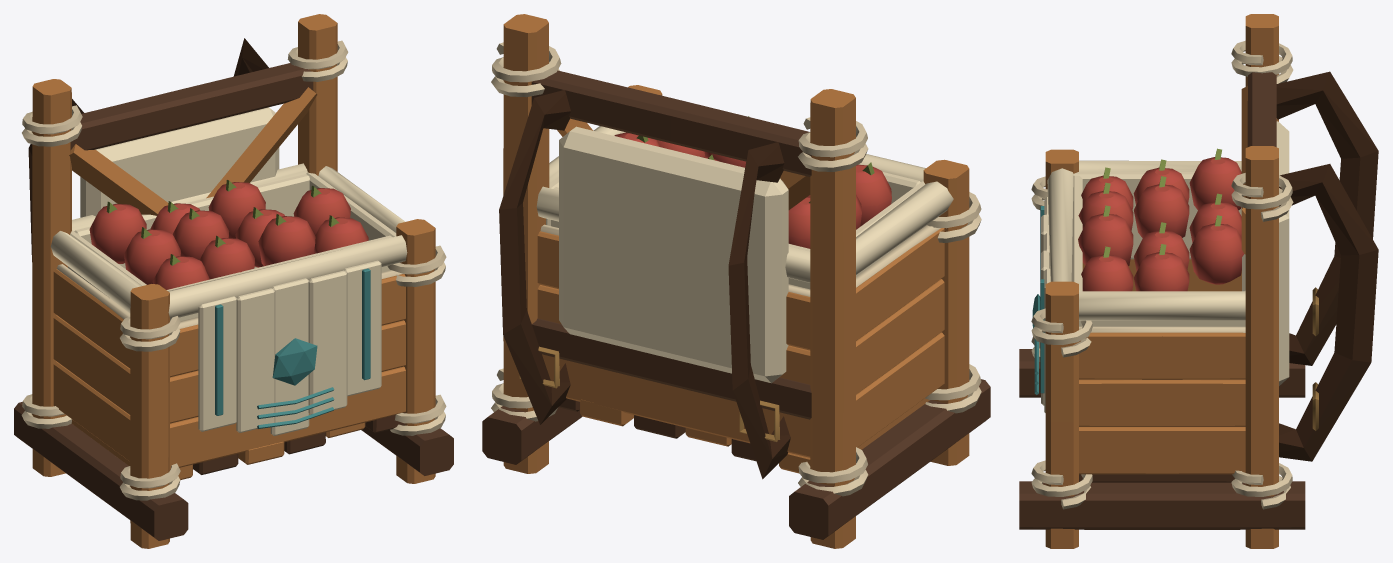
The model's file is prop_trade_pack_apple_a.glb.
3 renders of one model, left to right at view 1: azimuth 30°, elevation 25°; view 2: azimuth 150°, elevation 25°; view 3: azimuth 270°, elevation 25°, orthographic. The views are drawn at different scales.
Parts seen in each view (by area): view 1: prop_trade_pack_apple_a_LOD0; view 2: prop_trade_pack_apple_a_LOD0; view 3: prop_trade_pack_apple_a_LOD0.
Part boxes in pixels (x1=…): prop_trade_pack_apple_a_LOD0: x1=14, y1=14, x2=453, y2=548; prop_trade_pack_apple_a_LOD0: x1=482, y1=14, x2=990, y2=548; prop_trade_pack_apple_a_LOD0: x1=1019, y1=14, x2=1378, y2=548.
Size of what is drawn, in the model's own units: 0.8384 by 0.96 by 0.8041.
